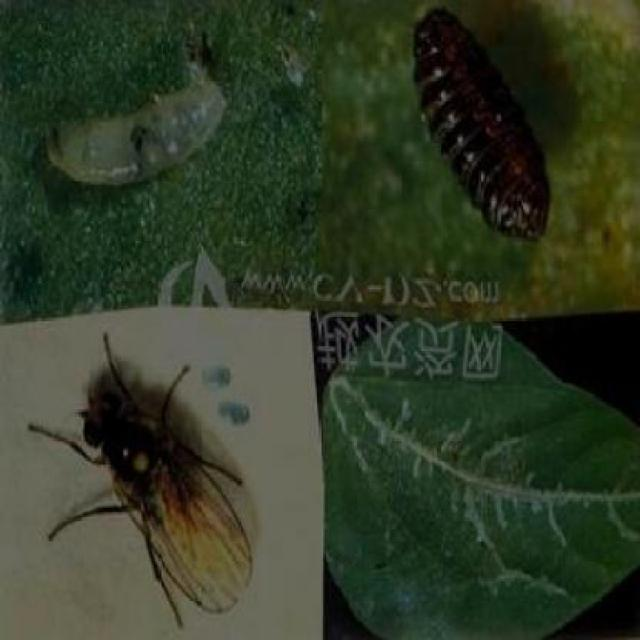whorl-maggot: (404, 15, 568, 256), (32, 64, 239, 208)
